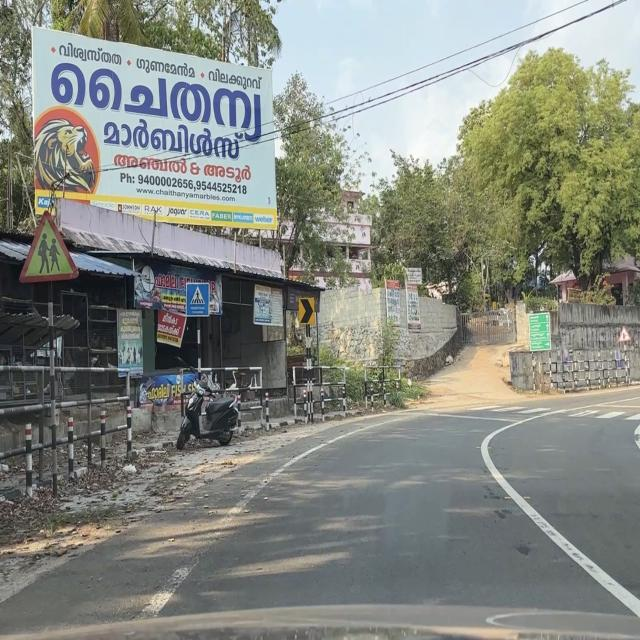GENERAL: (528, 312, 552, 352)
PEDESTRIAN_CROSSING: (185, 282, 210, 318)
SCHOOL_AHEAD: (19, 208, 80, 285)
TURN_RIGHT: (298, 297, 315, 325)
